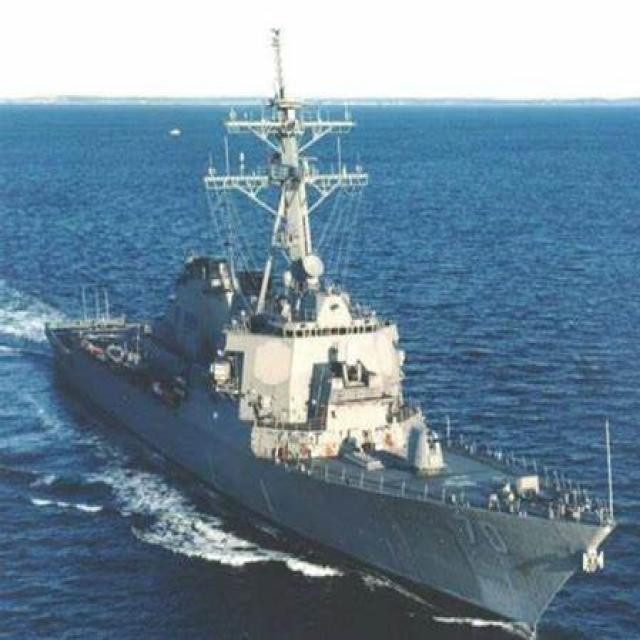navalvessels: (50, 24, 634, 626)
